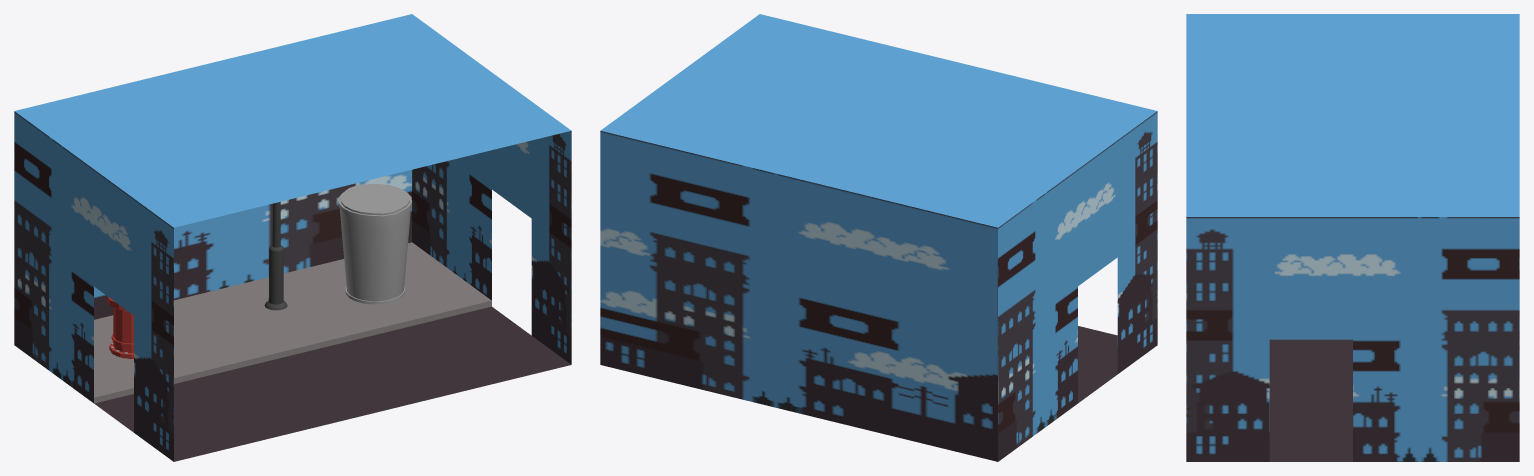
3 renders of one model, left to right at view 1: azimuth 30°, elevation 25°; view 2: azimuth 150°, elevation 25°; view 3: azimuth 270°, elevation 25°, orthographic. The views are drawn at different scales.
Parts seen in each view (by area): view 1: Cube, Object_2, Cylinder_lamp_0.001, Circle; view 2: Cube; view 3: Cube.
Part boxes in pixels (x1=…): Cube: x1=14, y1=14, x2=571, y2=461; Object_2: x1=338, y1=184, x2=411, y2=304; Cylinder_lamp_0.001: x1=264, y1=202, x2=287, y2=310; Circle: x1=106, y1=296, x2=133, y2=358; Cube: x1=600, y1=14, x2=1157, y2=461; Cube: x1=1186, y1=14, x2=1519, y2=461.
Size of the model in its own units: 3.84 by 2.16 by 2.67.
9 materials, 1 textured.
